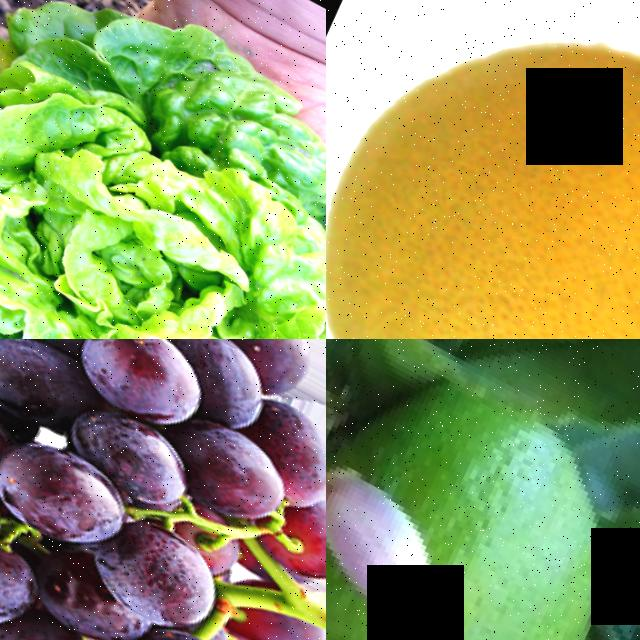grapes: (0, 339, 326, 640)
lemon: (326, 0, 640, 339), (326, 339, 640, 640)
lettuce: (0, 0, 326, 339)
